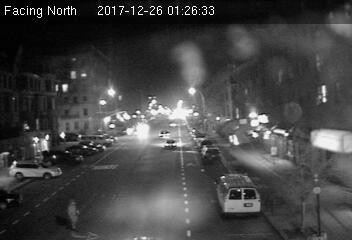car: (202, 145, 221, 162), (164, 138, 176, 149)
pedestrian: (66, 198, 81, 231)
truck: (215, 170, 262, 216)
